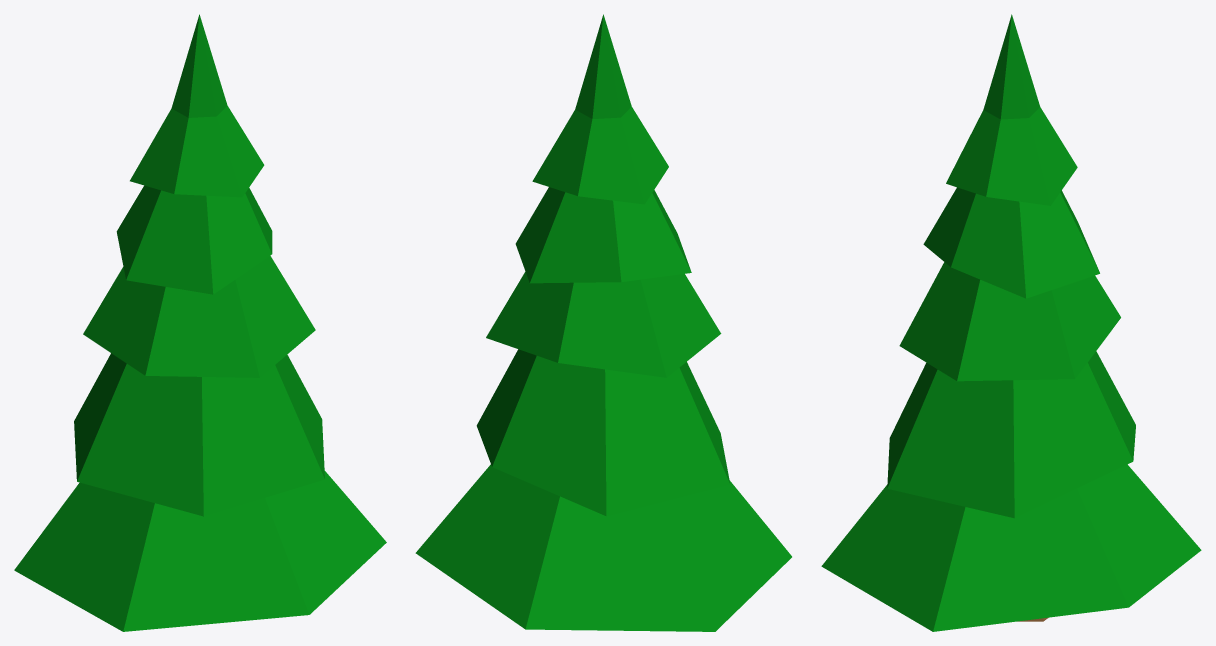
The model's file is tree_pine5.fbx.
The picture shows the model from 3 angles, left to right: view 1: azimuth 30°, elevation 25°; view 2: azimuth 150°, elevation 25°; view 3: azimuth 270°, elevation 25°; orthographic projection.
Visible parts, largest first — view 1: tree_pine1.001; view 2: tree_pine1.001; view 3: tree_pine1.001.
Boxes of the visible parts, x1,y1,x2,y2 form: tree_pine1.001: [14, 14, 386, 631]; tree_pine1.001: [415, 14, 791, 631]; tree_pine1.001: [821, 14, 1201, 631].
Size of the model in its own units: 1.78 by 3.29 by 1.94.
